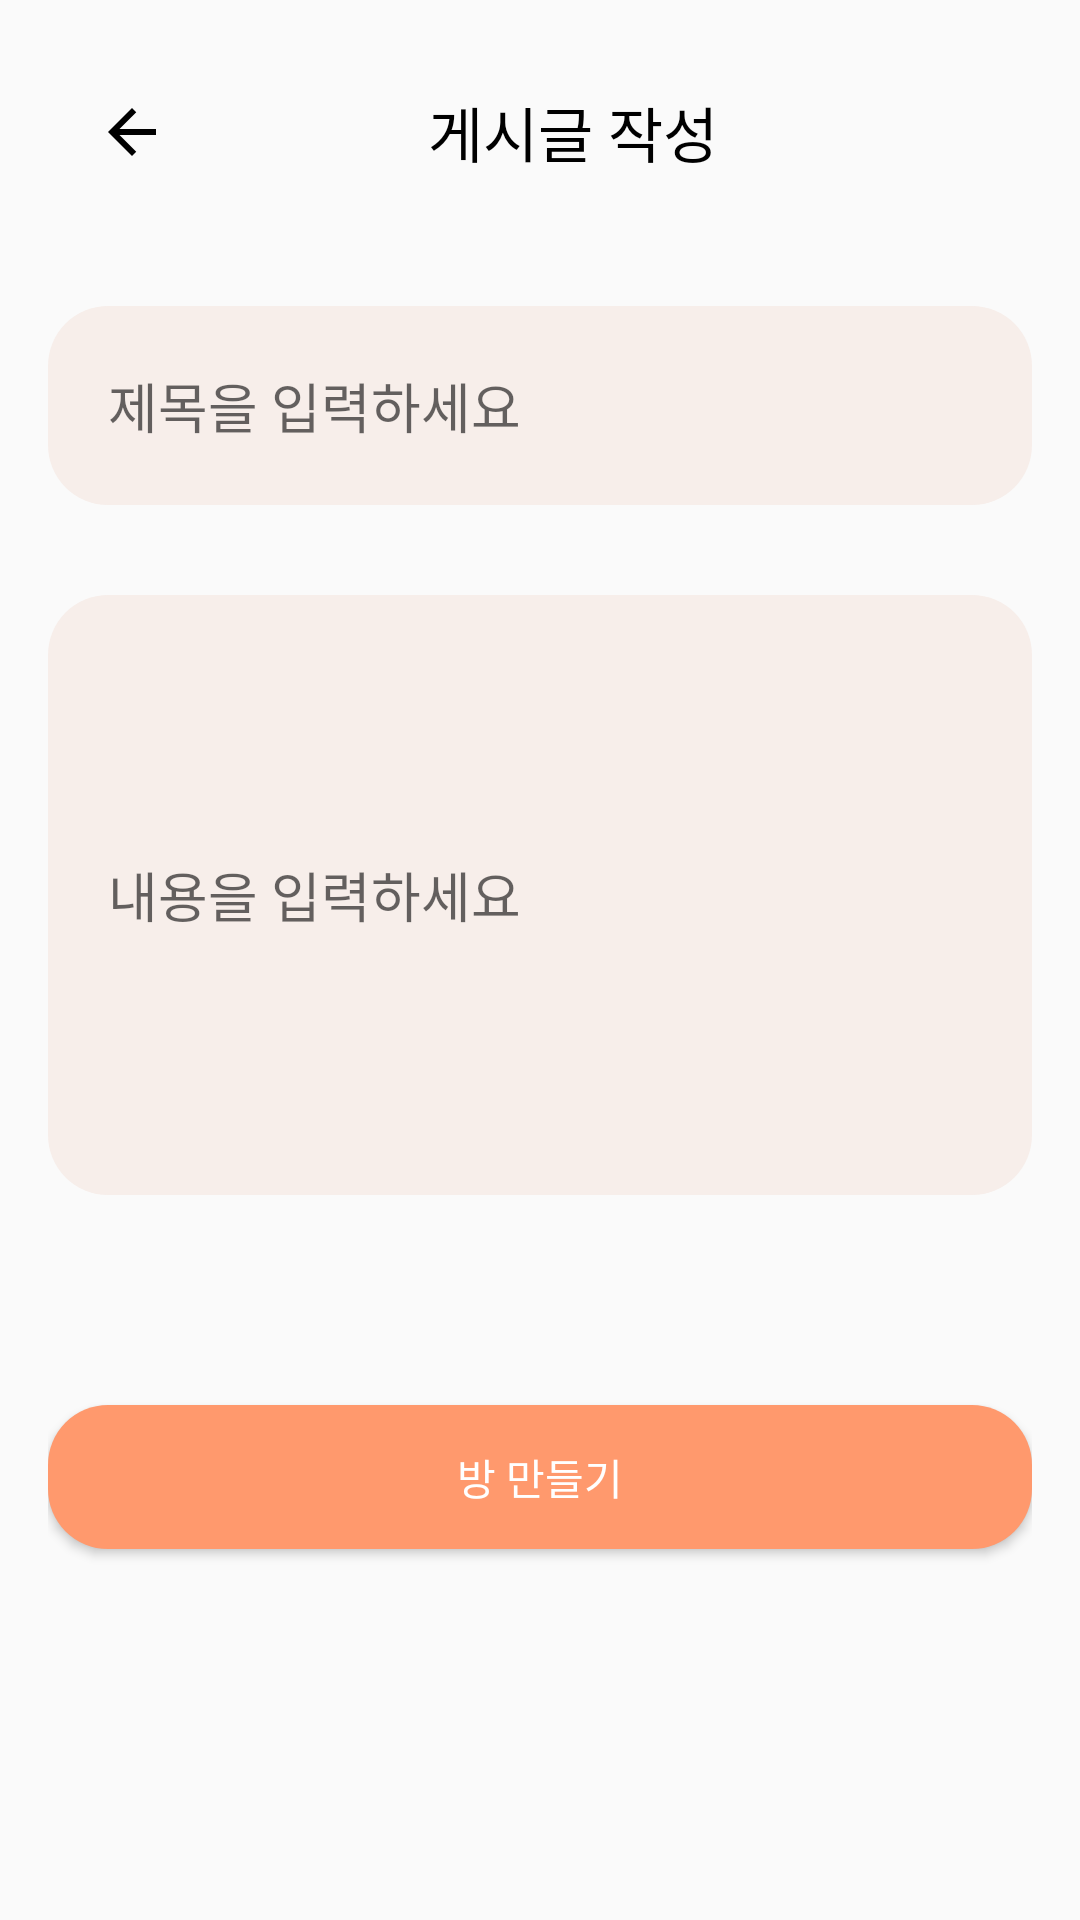

Screen size 1080px x 1920px. Icon name, then its box in pixels as {"left": x1, "top": y1, "right": x2, "bottom": y2}:
back arrow: {"left": 108, "top": 108, "right": 156, "bottom": 156}
